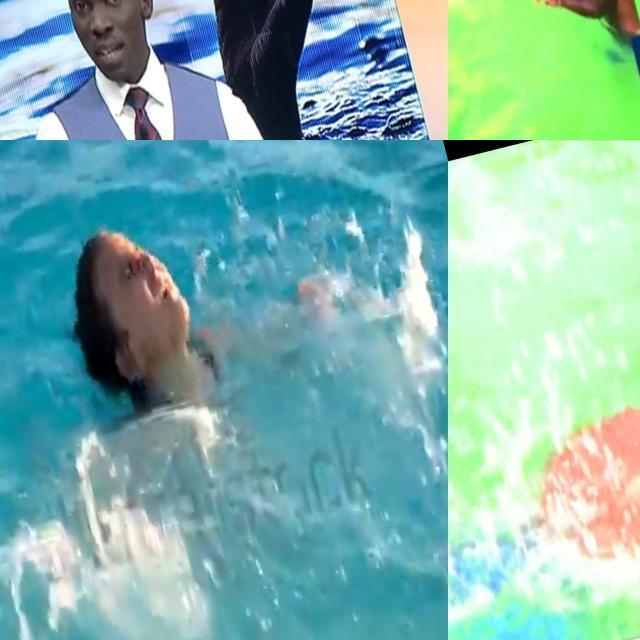Drowning: (69, 224, 226, 412)
